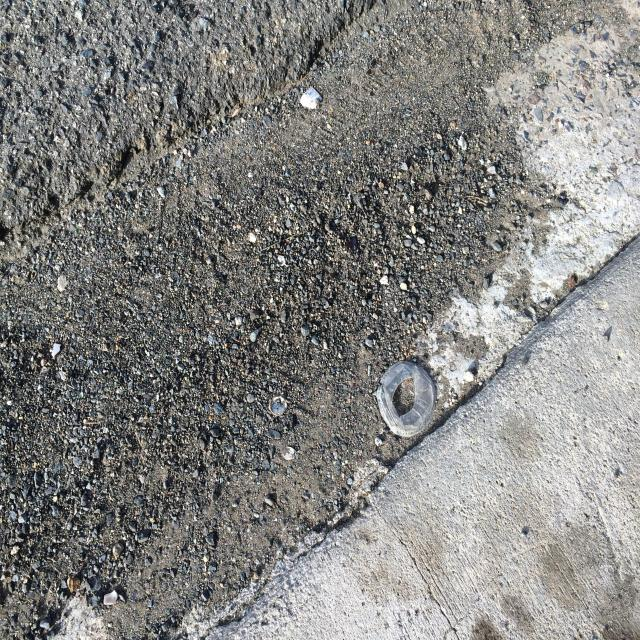litter: (378, 359, 436, 435), (269, 396, 288, 417)
